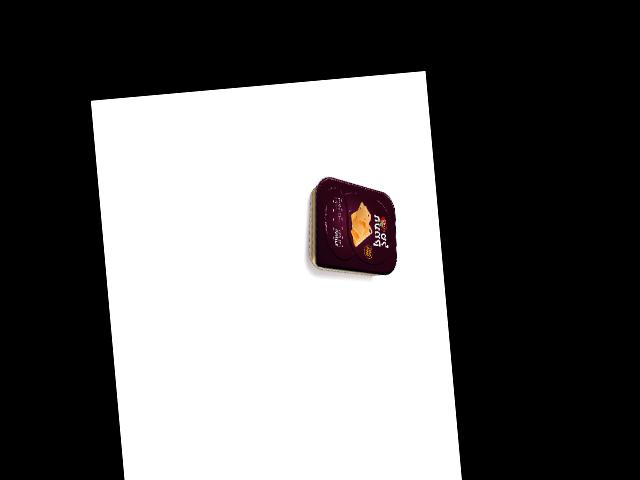cheese: (303, 171, 401, 281)
